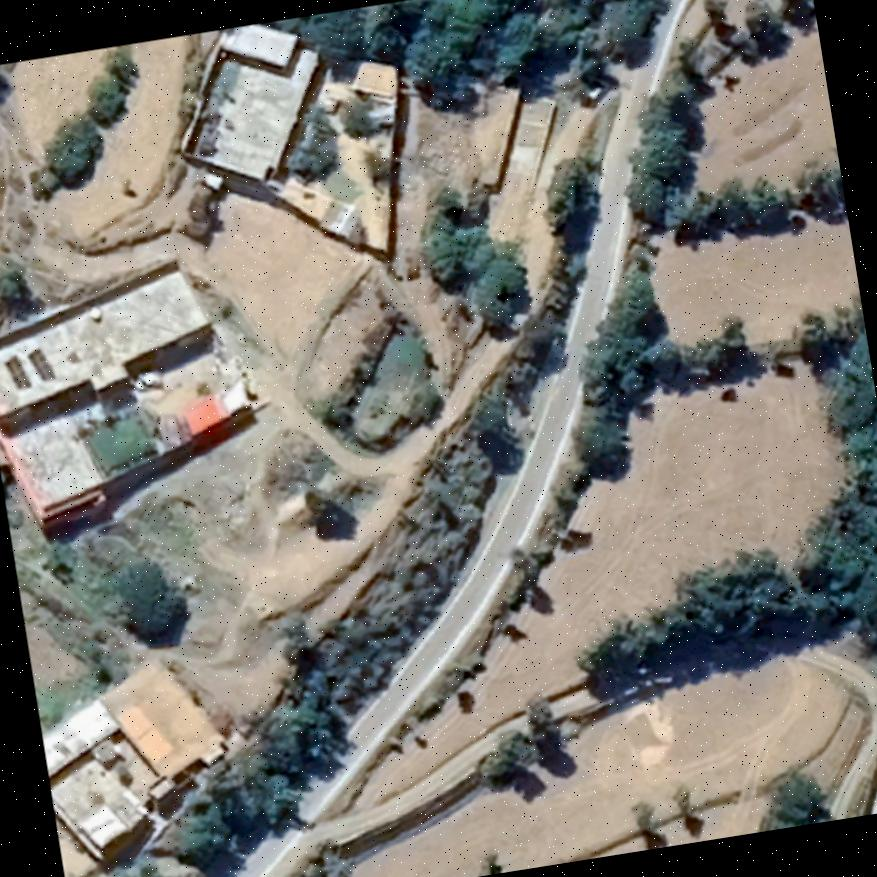Solarpanel: (1, 350, 34, 394), (26, 344, 58, 385)
